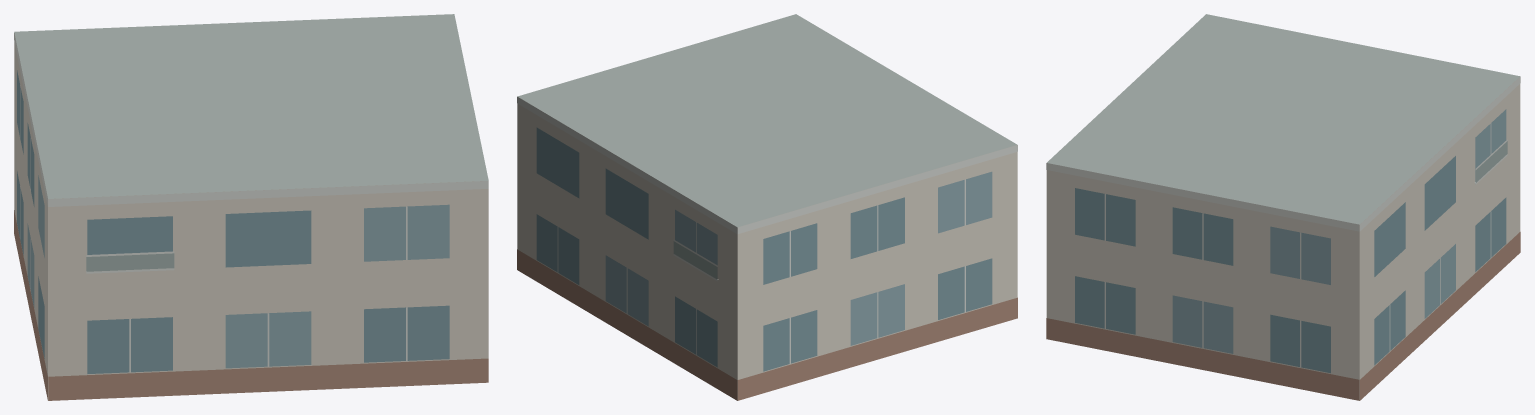
The model's file is survey-upis-32922365.glb.
The picture shows the model from 3 angles, left to right: view 1: azimuth 30°, elevation 25°; view 2: azimuth 150°, elevation 25°; view 3: azimuth 270°, elevation 25°; orthographic projection. The views are drawn at different scales.
Parts seen in each view (by area): view 1: survey-upis-32922365.tmp; view 2: survey-upis-32922365.tmp; view 3: survey-upis-32922365.tmp.
Part boxes in pixels (bbox=[...]): survey-upis-32922365.tmp: bbox=[14, 14, 488, 400]; survey-upis-32922365.tmp: bbox=[517, 14, 1017, 400]; survey-upis-32922365.tmp: bbox=[1046, 14, 1520, 400].
Bounding box in the file's own units: 15.64 × 6.1 × 14.88.
